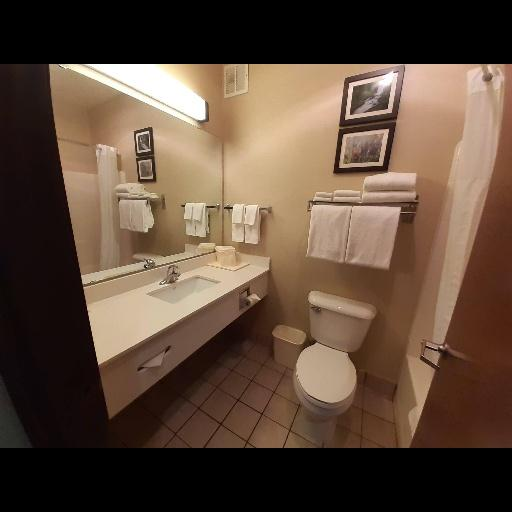clean mirror: (49, 66, 227, 289)
clean_floor: (105, 332, 397, 451)
clean_sink: (81, 245, 276, 419)
clean_toilet: (286, 286, 379, 445)
folded_towel: (302, 202, 405, 268), (361, 169, 422, 204), (231, 204, 260, 246), (311, 188, 368, 204)
